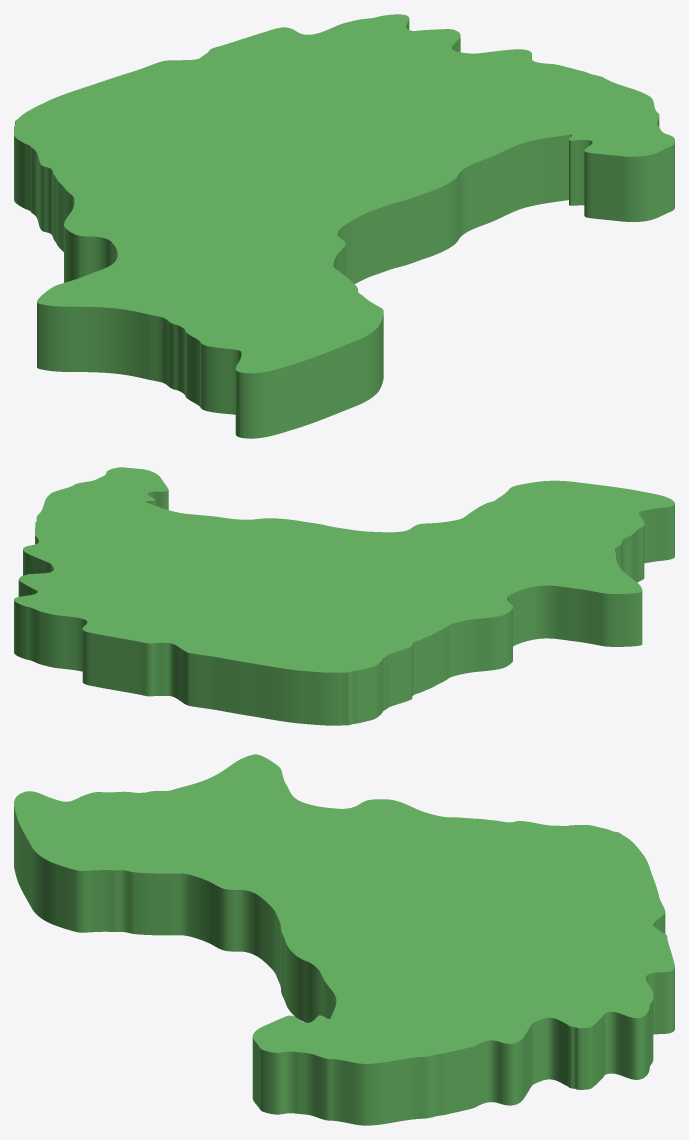
File: pulau-kalimantan.fbx
3 views of the same model, one above another, from view 1: azimuth 30°, elevation 25°; view 2: azimuth 150°, elevation 25°; view 3: azimuth 270°, elevation 25° (orthographic). The views are drawn at different scales.
Visible parts, largest first — view 1: kalimantan; view 2: kalimantan; view 3: kalimantan.
Boxes of the visible parts, bbox=[...] form: kalimantan: bbox=[14, 14, 674, 438]; kalimantan: bbox=[14, 467, 674, 725]; kalimantan: bbox=[14, 754, 674, 1125].
Bounding box in the file's own units: 51.21 × 4.76 × 46.2.
